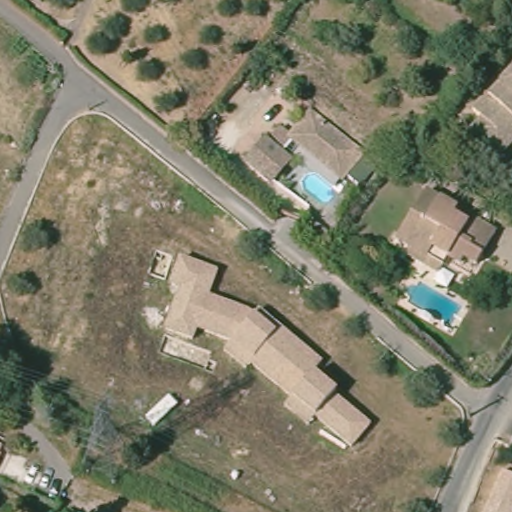pool: (402, 274, 465, 331), (299, 167, 342, 208)
